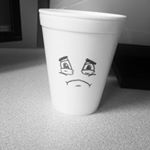cups: (36, 5, 128, 117)
